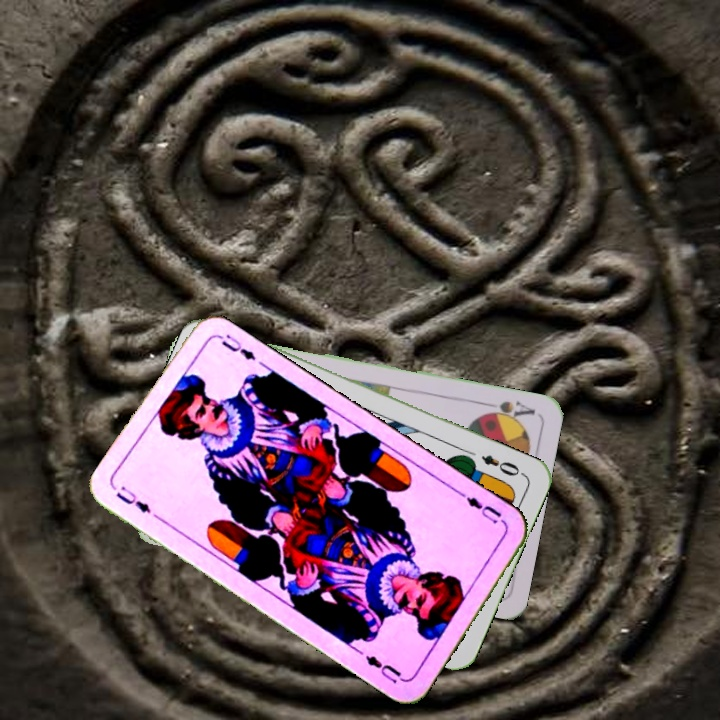EO: (477, 451, 527, 479)
EU: (455, 488, 508, 527), (112, 482, 154, 516)
SA: (477, 396, 538, 425)
